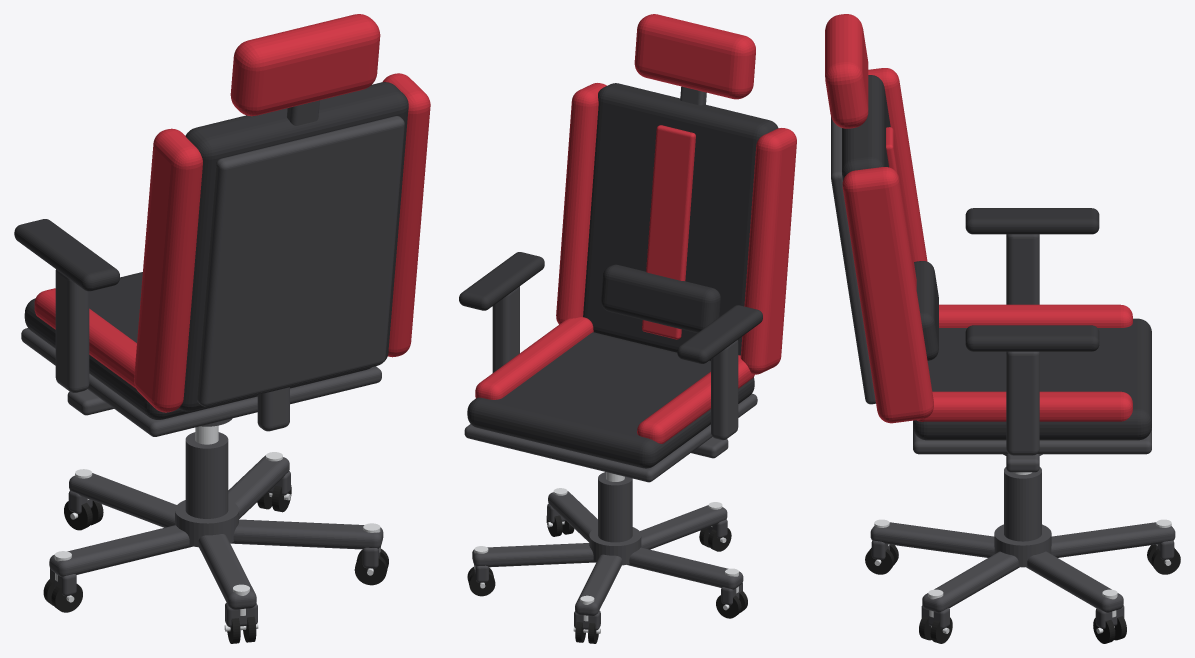
Rendered from CHAIR-460.glb.
3 renders of one model, left to right at view 1: azimuth 30°, elevation 25°; view 2: azimuth 150°, elevation 25°; view 3: azimuth 270°, elevation 25°, orthographic. The views are drawn at different scales.
Visible parts, largest first — view 1: Backrest_Shell, Backrest_Wing_L, Backrest_Main, Headrest, Backrest_Wing_R, Seat_Pan, Seat_Cushion, Armrest_Post_L, Armrest_Pad_L, Leg_2, Gaslift_Cover_Lower, Leg_0 (+9 smaller); view 2: Backrest_Main, Seat_Cushion, Backrest_Wing_L, Headrest, Backrest_Stripe, Backrest_Wing_R, Lumbar_Pillow, Seat_Pan, Seat_Bolster_R, Seat_Bolster_L, Armrest_Post_L, Armrest_Pad_R (+10 smaller); view 3: Backrest_Wing_R, Seat_Cushion, Seat_Bolster_R, Headrest, Seat_Bolster_L, Armrest_Pad_L, Armrest_Pad_R, Armrest_Post_R, Seat_Pan, Backrest_Shell, Backrest_Wing_L, Backrest_Main (+10 smaller).
Part boxes in pixels (x1,y1,x2,y2): Backrest_Shell: (197,116,404,406); Backrest_Wing_L: (134,128,202,412); Backrest_Main: (178,82,408,411); Headrest: (230,14,380,116); Backrest_Wing_R: (382,73,430,357); Seat_Pan: (21,328,381,436); Seat_Cushion: (24,272,371,419); Armrest_Post_L: (55,269,89,392); Armrest_Pad_L: (14,219,119,291); Leg_2: (230,519,383,549); Gaslift_Cover_Lower: (185,432,228,518); Leg_0: (49,525,192,576); Backrest_Main: (583,83,778,360); Seat_Cushion: (467,332,754,468); Backrest_Wing_L: (740,128,796,374); Headrest: (634,14,755,99); Backrest_Stripe: (642,125,695,339); Backrest_Wing_R: (556,83,606,324); Lumbar_Pillow: (601,264,720,333); Seat_Pan: (464,393,757,482); Seat_Bolster_R: (475,317,593,399); Seat_Bolster_L: (637,355,754,443); Armrest_Post_L: (711,340,738,440); Armrest_Pad_R: (459,252,544,310); Backrest_Wing_R: (842,167,933,423); Seat_Cushion: (913,318,1151,440); Seat_Bolster_R: (917,391,1132,421); Headrest: (825,14,868,128); Seat_Bolster_L: (939,304,1132,327); Armrest_Pad_L: (965,208,1099,234); Armrest_Pad_R: (965,325,1099,351); Armrest_Post_R: (1006,351,1039,455); Seat_Pan: (913,428,1151,454); Backrest_Shell: (831,116,875,404); Backrest_Wing_L: (868,68,927,261); Backrest_Main: (842,75,890,180).
Size of the model in its own units: 0.5483 by 1.04 by 0.6087.
